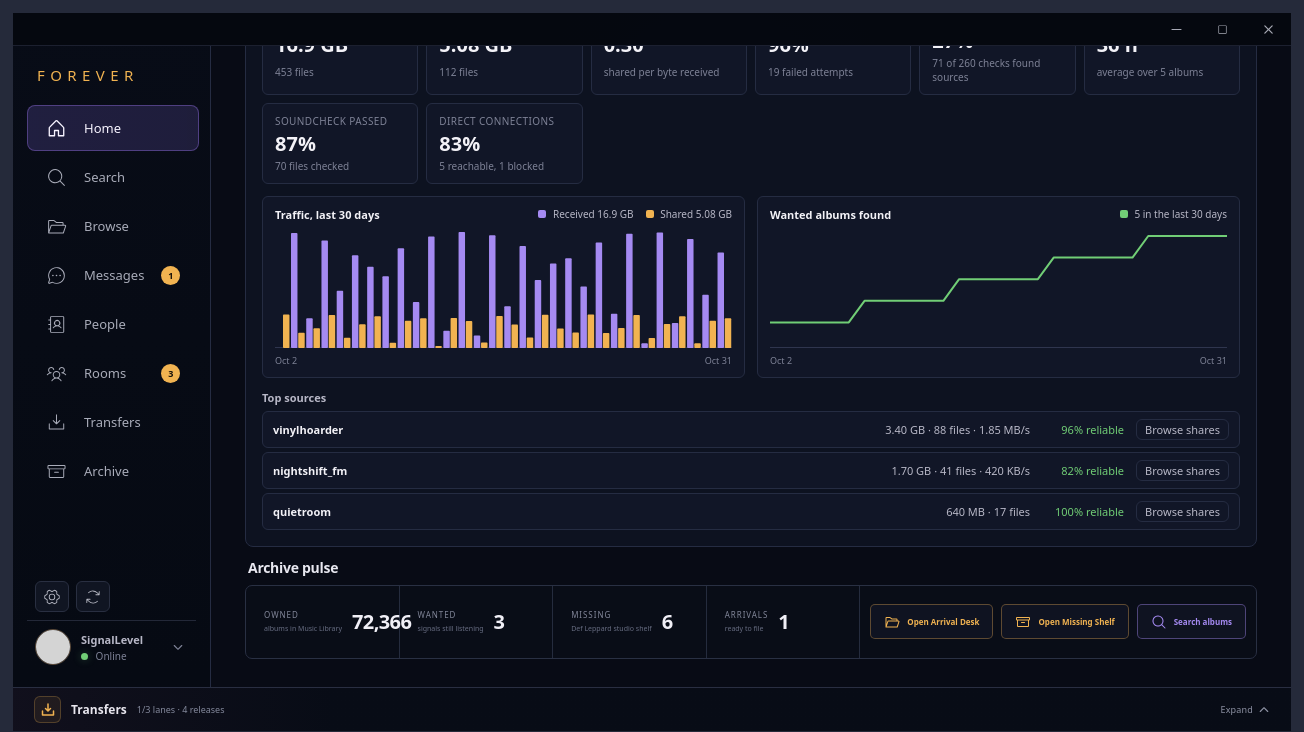
Test: Forever shell › reconciles completed downloads at the Arrival Desk without writing to Music Library
The width and height of the screenshot is (1304, 732).
(page scrolled)
Click the button "Open Arrival Desk" at (932, 622), box [870,604,994,639]
(page scrolled)
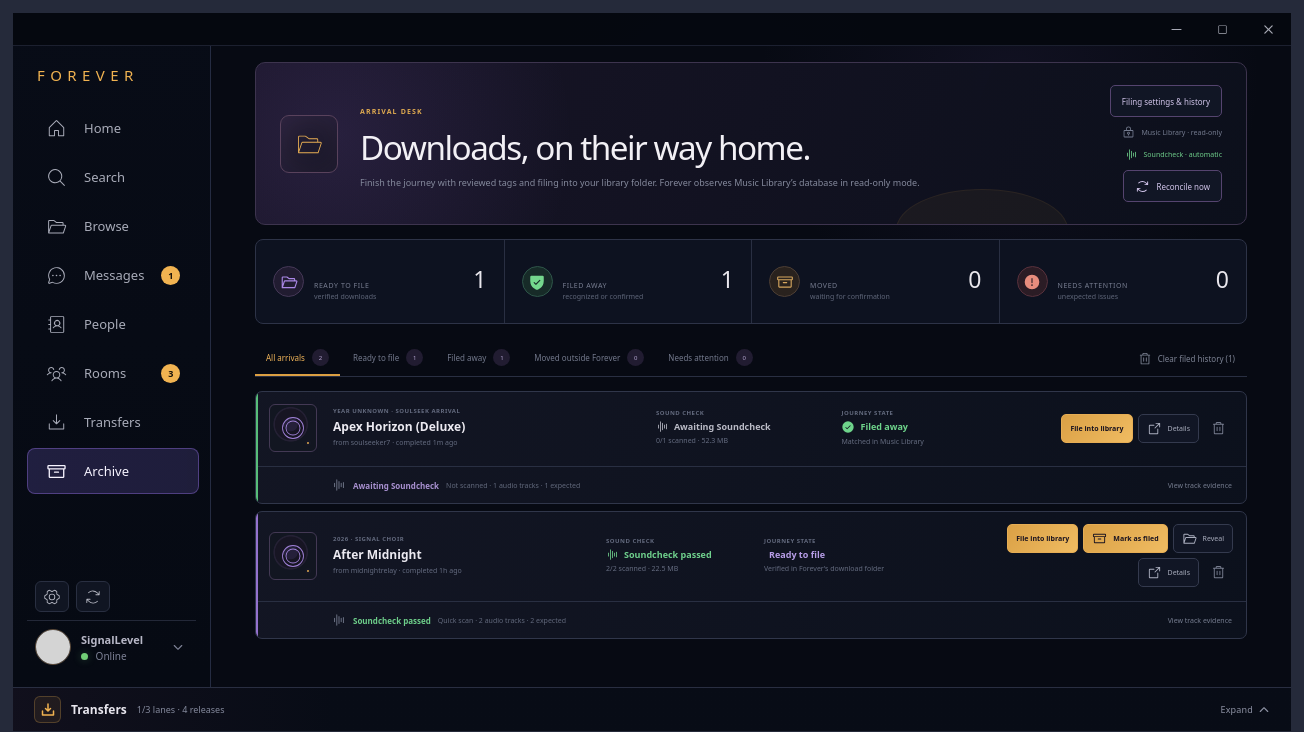
Expected: the heading "Downloads, on their way home." is shown, [360,124,810,170]
Expected: the text "Music Library · read-only" is shown, [1122,126,1222,139]
Expected: the text "Ready to file" is shown, [769,548,825,561]
Click the button "Mark as filed" at (1125, 538), box [1083,524,1168,553]
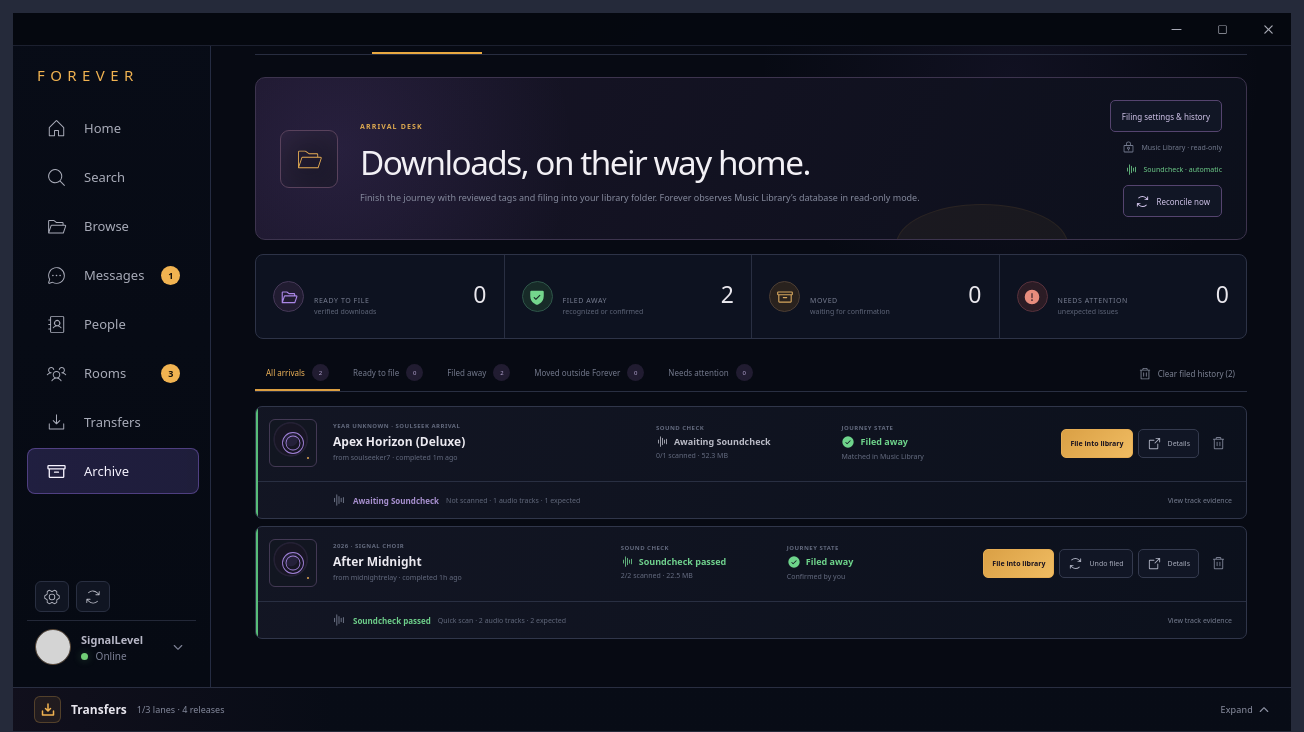
Expected: the text "from midnightrelay · completed 1h ago" is shown, [333,573,462,582]
Expected: the text "Filed away" in the row of "After Midnight" is shown, [806,555,853,568]
Expected: the text "Confirmed by you" is shown, [787,572,845,581]
